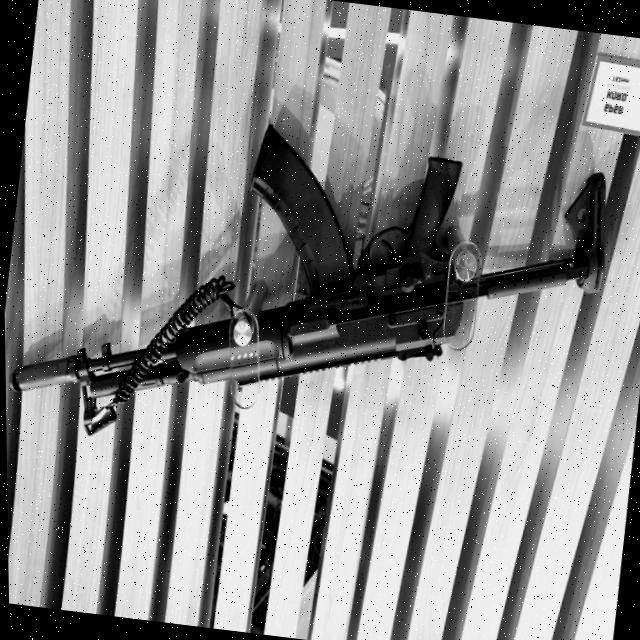firearm: (1, 91, 620, 497)
